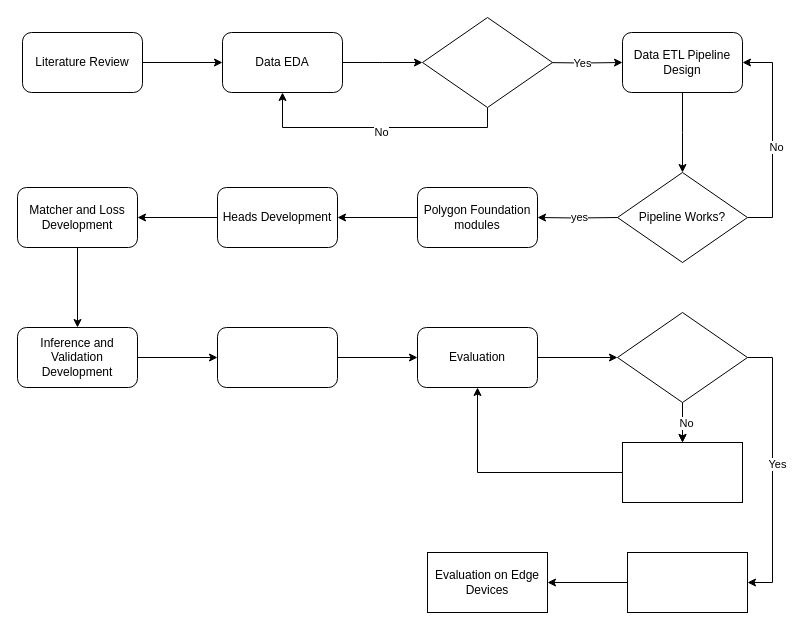
This 803x630 diagram has some shape labels left out. Here are the shapes that lost their labels. From the top down, the centre of each, then its label:
At point (487, 62): "Data fits requirements?".
At point (277, 357): "Training".
At point (682, 357): "Evaluation meets expectations?".
At point (682, 472): "Ablation trainings".
At point (687, 582): "Deployment".
